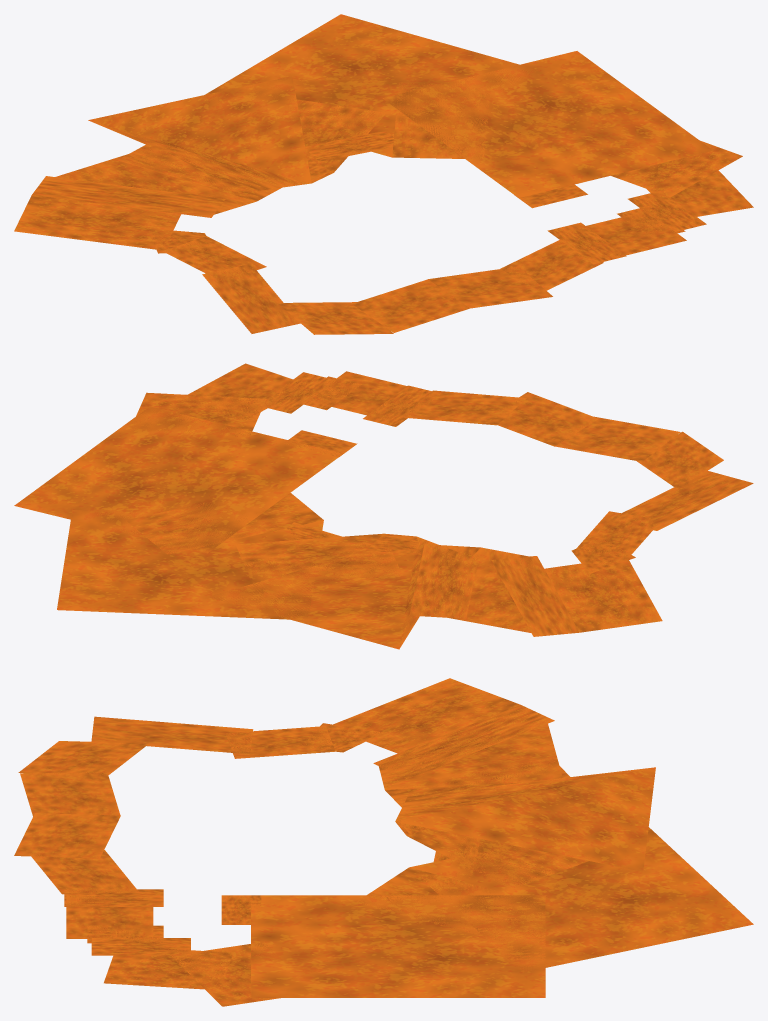
File: LV1Nav.fbx
3 renders of one model, top to bottom at view 1: azimuth 30°, elevation 25°; view 2: azimuth 150°, elevation 25°; view 3: azimuth 270°, elevation 25°, orthographic. The views are drawn at different scales.
Parts seen in each view (by area): view 1: polySurface148; view 2: polySurface148; view 3: polySurface148.
Boxes of the visible parts, x1,y1,x2,y2 form: polySurface148: [14, 14, 753, 334]; polySurface148: [14, 363, 753, 649]; polySurface148: [14, 678, 753, 1006].
Bounding box in the file's own units: 448 × 3.22e-05 × 426.
